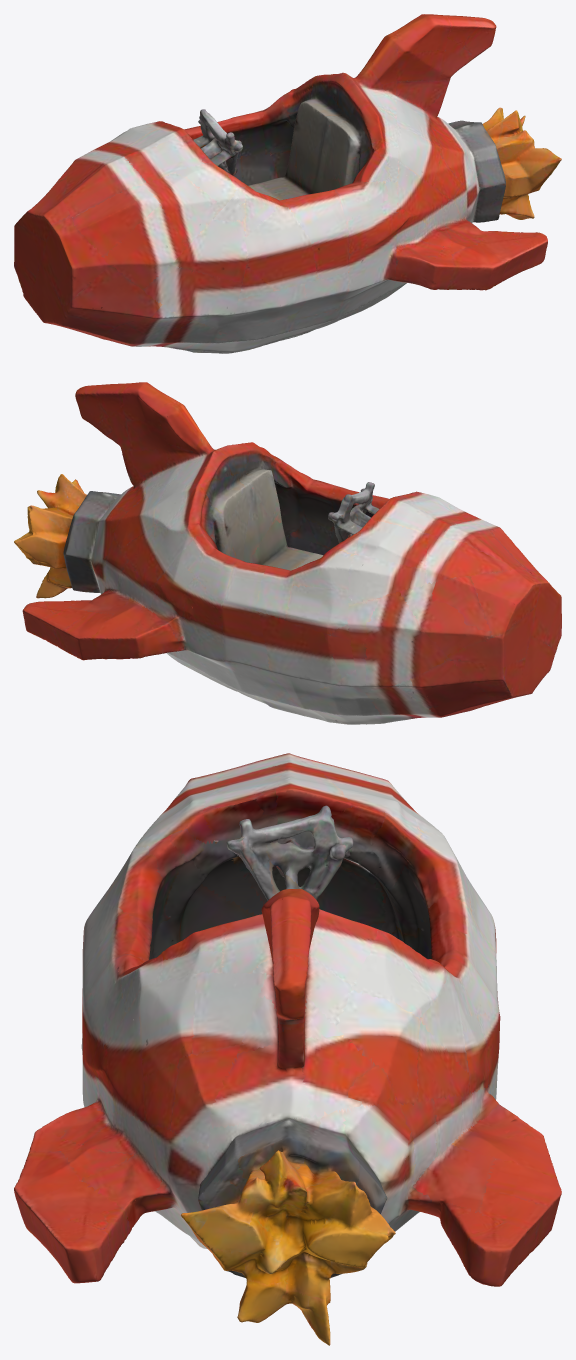
File: Meshy_AI_Red_Stripe_Rocket_0330160432_texture.glb
The picture shows the model from 3 angles, top to bottom: view 1: azimuth 30°, elevation 25°; view 2: azimuth 150°, elevation 25°; view 3: azimuth 270°, elevation 25°; orthographic projection. The views are drawn at different scales.
Size of the model in its own units: 2 by 1.07 by 1.18.
1 material, 1 textured.
